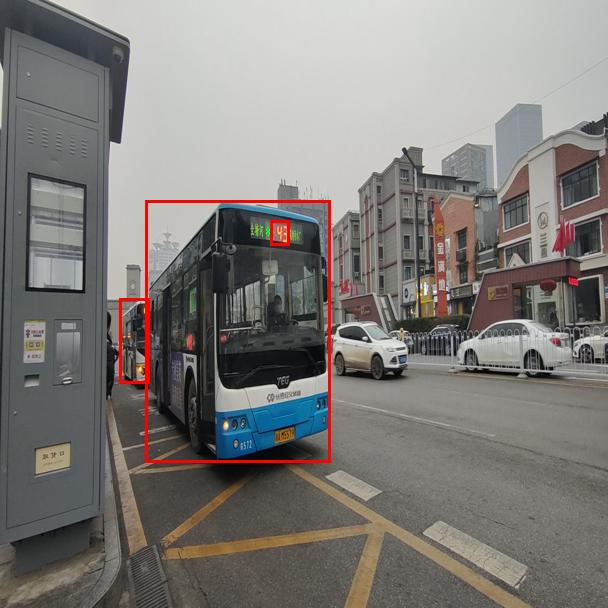bus: (145, 200, 330, 462), (119, 298, 149, 383)
screen: (270, 220, 289, 245)
